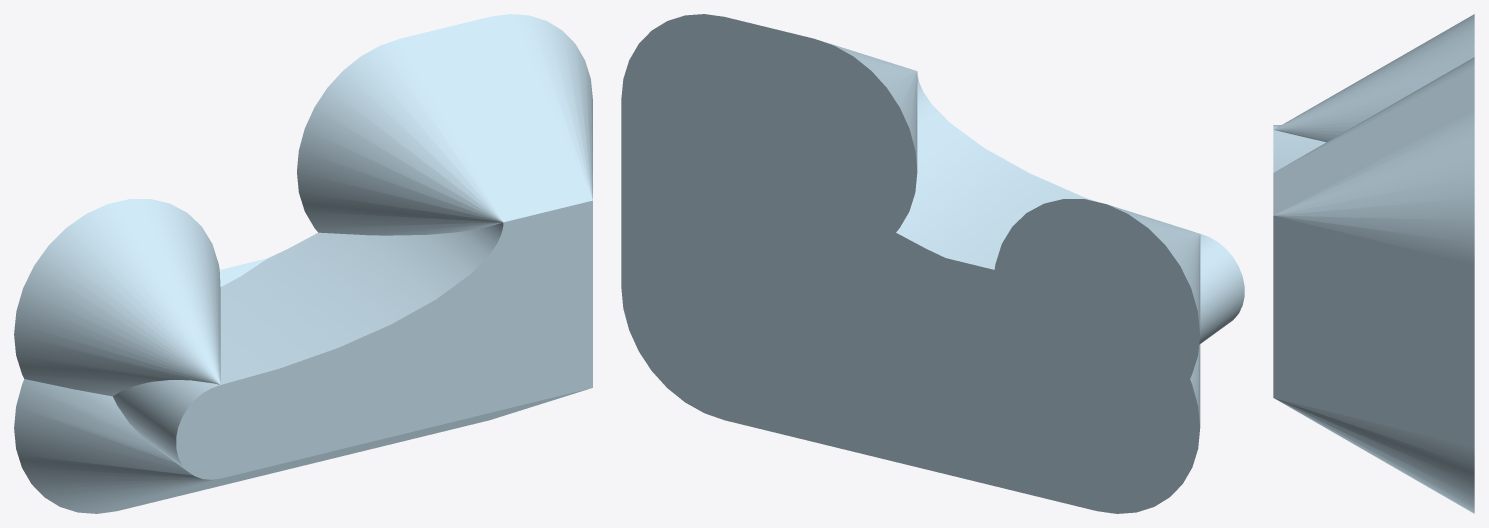
File: Engrave2.gltf
3 views of the same model, side by side, from view 1: azimuth 30°, elevation 25°; view 2: azimuth 150°, elevation 25°; view 3: azimuth 270°, elevation 25° (orthographic). The views are drawn at different scales.
Parts seen in each view (by area): view 1: Part 1; view 2: Part 1; view 3: Part 1.
Boxes of the visible parts, x1,y1,x2,y2 form: Part 1: (14,14,592,513); Part 1: (621,14,1244,513); Part 1: (1273,14,1474,513).
Bounding box in the file's own units: 0.0822 × 0.0547 × 0.0254.
